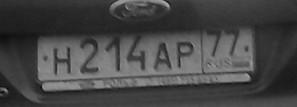license-plateSW: (35, 26, 256, 82)
